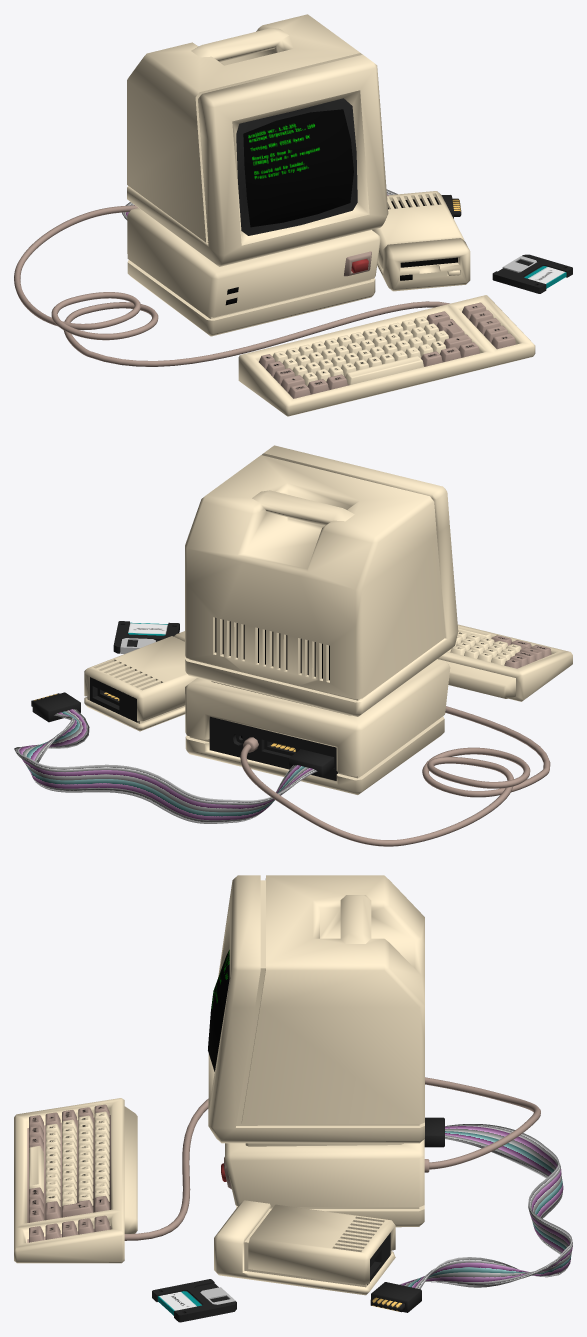
Rendered from old-computer.fbx.
3 views of the same model, one above another, from view 1: azimuth 30°, elevation 25°; view 2: azimuth 150°, elevation 25°; view 3: azimuth 270°, elevation 25° (orthographic). The views are drawn at different scales.
Visible parts, largest first — view 1: computer, keyboard-keys, keyboard, floppy drive, BezierCurve, floppy; view 2: computer, ribbon, floppy drive, BezierCurve, keyboard, keyboard-keys, floppy, ribbon connector 2, ribbon connector 1; view 3: computer, floppy drive, keyboard, keyboard-keys, ribbon, BezierCurve, floppy, ribbon connector 2, ribbon connector 1.
Part boxes in pixels (bbox=[...]): computer: bbox=[127, 14, 388, 336]; keyboard-keys: bbox=[259, 302, 516, 398]; keyboard: bbox=[238, 295, 535, 416]; floppy drive: bbox=[372, 191, 470, 291]; BezierCurve: bbox=[14, 205, 449, 366]; floppy: bbox=[492, 254, 572, 293]; computer: bbox=[185, 445, 458, 794]; ribbon: bbox=[14, 709, 317, 823]; floppy drive: bbox=[84, 631, 196, 731]; BezierCurve: bbox=[240, 706, 550, 846]; keyboard: bbox=[437, 624, 572, 701]; keyboard-keys: bbox=[447, 625, 551, 668]; floppy: bbox=[113, 621, 179, 653]; ribbon connector 2: bbox=[31, 692, 80, 722]; ribbon connector 1: bbox=[288, 749, 334, 777]; computer: bbox=[208, 875, 424, 1227]; floppy drive: bbox=[214, 1200, 395, 1295]; keyboard: bbox=[14, 1098, 137, 1263]; keyboard-keys: bbox=[29, 1104, 109, 1242]; ribbon: bbox=[399, 1124, 572, 1289]; BezierCurve: bbox=[124, 1077, 540, 1240]; floppy: bbox=[152, 1279, 236, 1322]; ribbon connector 2: bbox=[370, 1282, 421, 1312]; ribbon connector 1: bbox=[424, 1117, 444, 1147].
Bounding box in the file's own units: 79.95 × 41.49 × 76.59.
11 materials, 11 textured.
